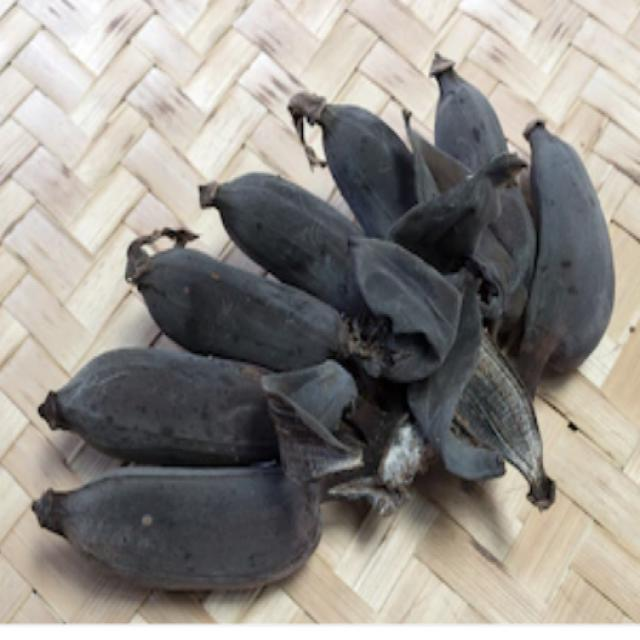rotten-banana: (500, 76, 628, 393), (30, 459, 328, 591), (46, 329, 304, 457), (440, 44, 532, 358), (189, 167, 400, 288), (124, 239, 338, 356), (330, 98, 437, 292)
